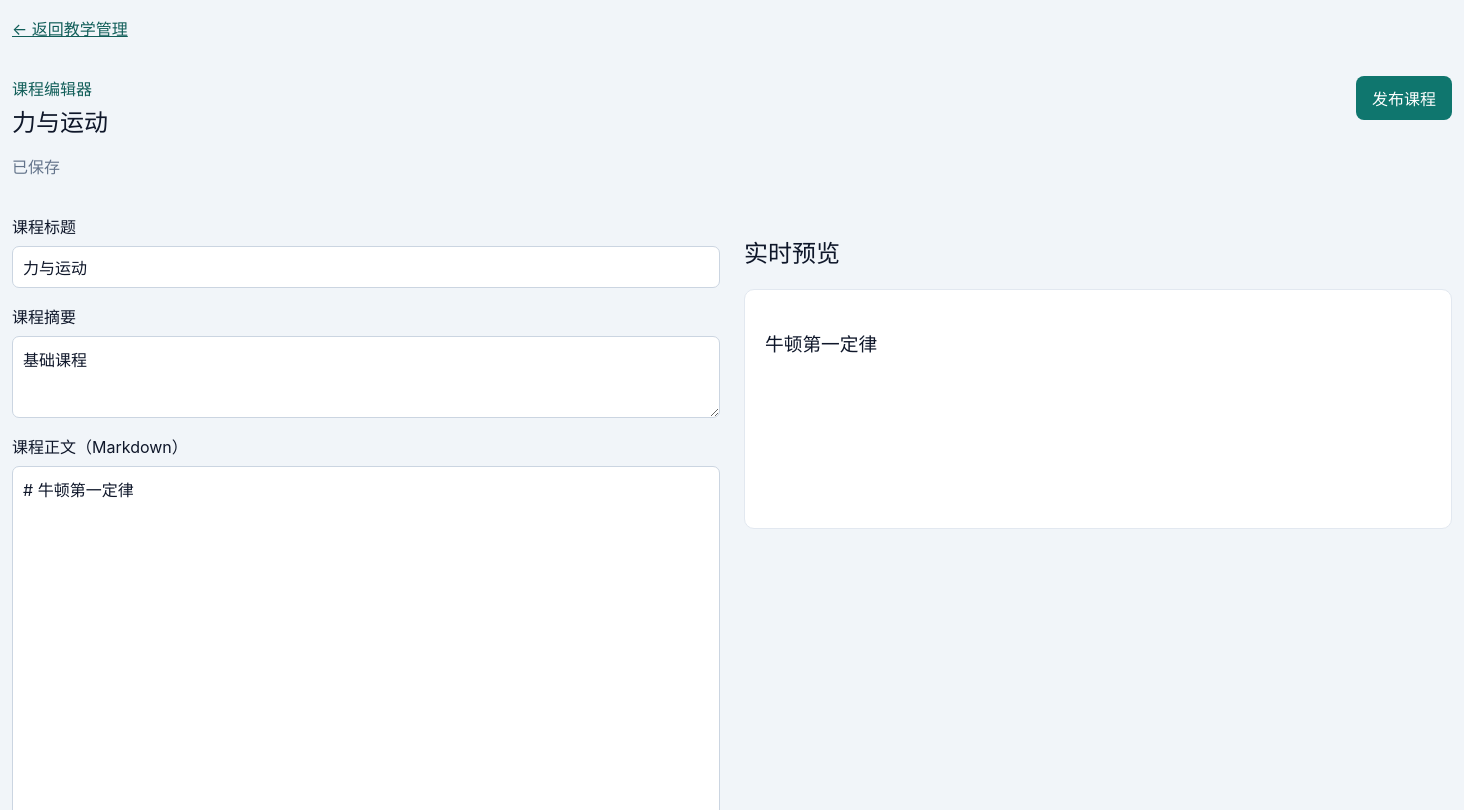
LessonEditorView › stops autosave after a conflict and offers a server reload
Replace the text in the field named "课程标题" with "本地标题" at point(366, 267), box [12,246,720,288]
Wait 800 ms
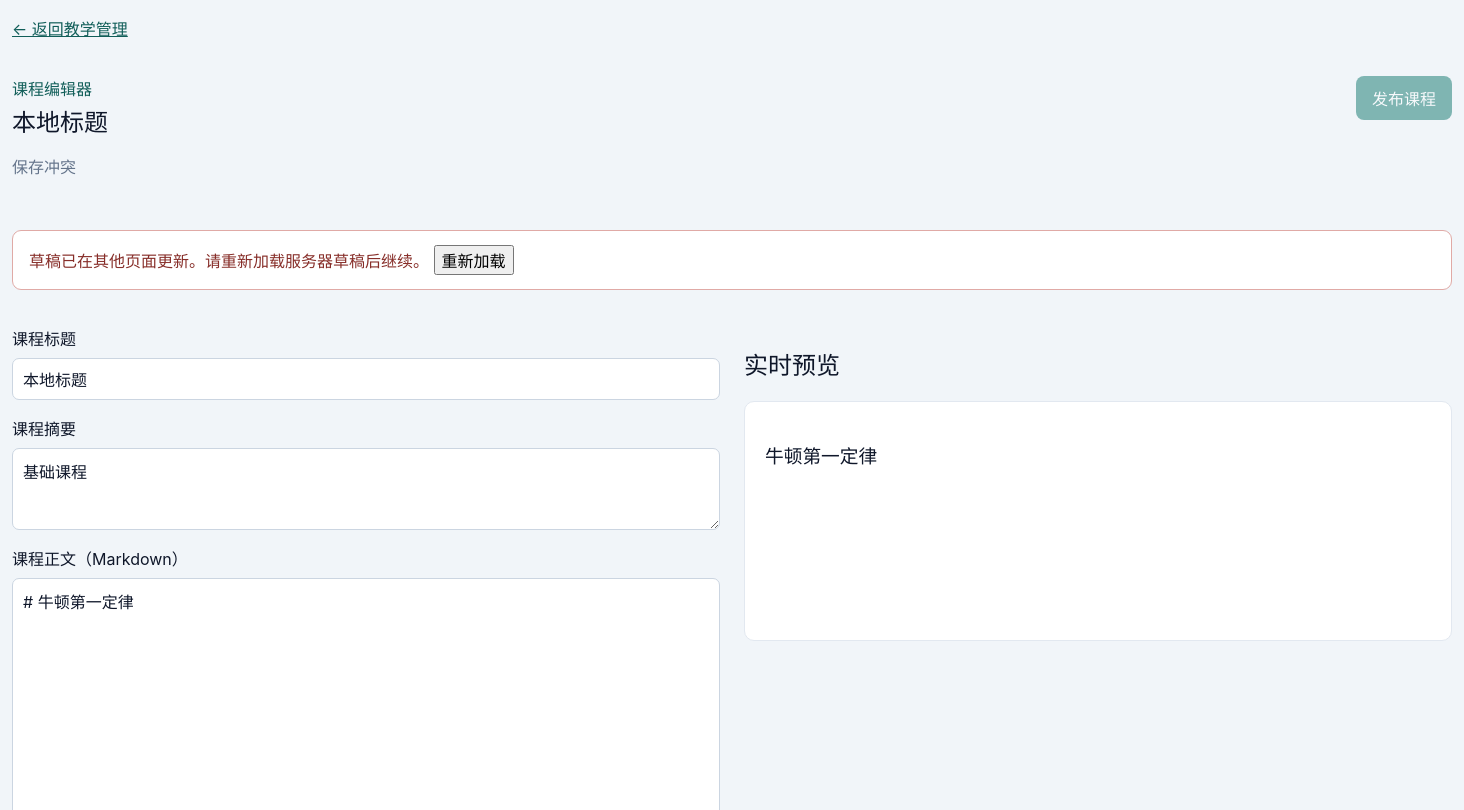
Now the message "草稿已在其他页面更新。请重新加载服务器草稿后继续。 重新加载" is shown, box [12,230,1452,290]
Replace the text in the text box named "课程摘要" with "继续编辑" at point(366, 489), box [12,448,720,530]
Wait 1600 ms
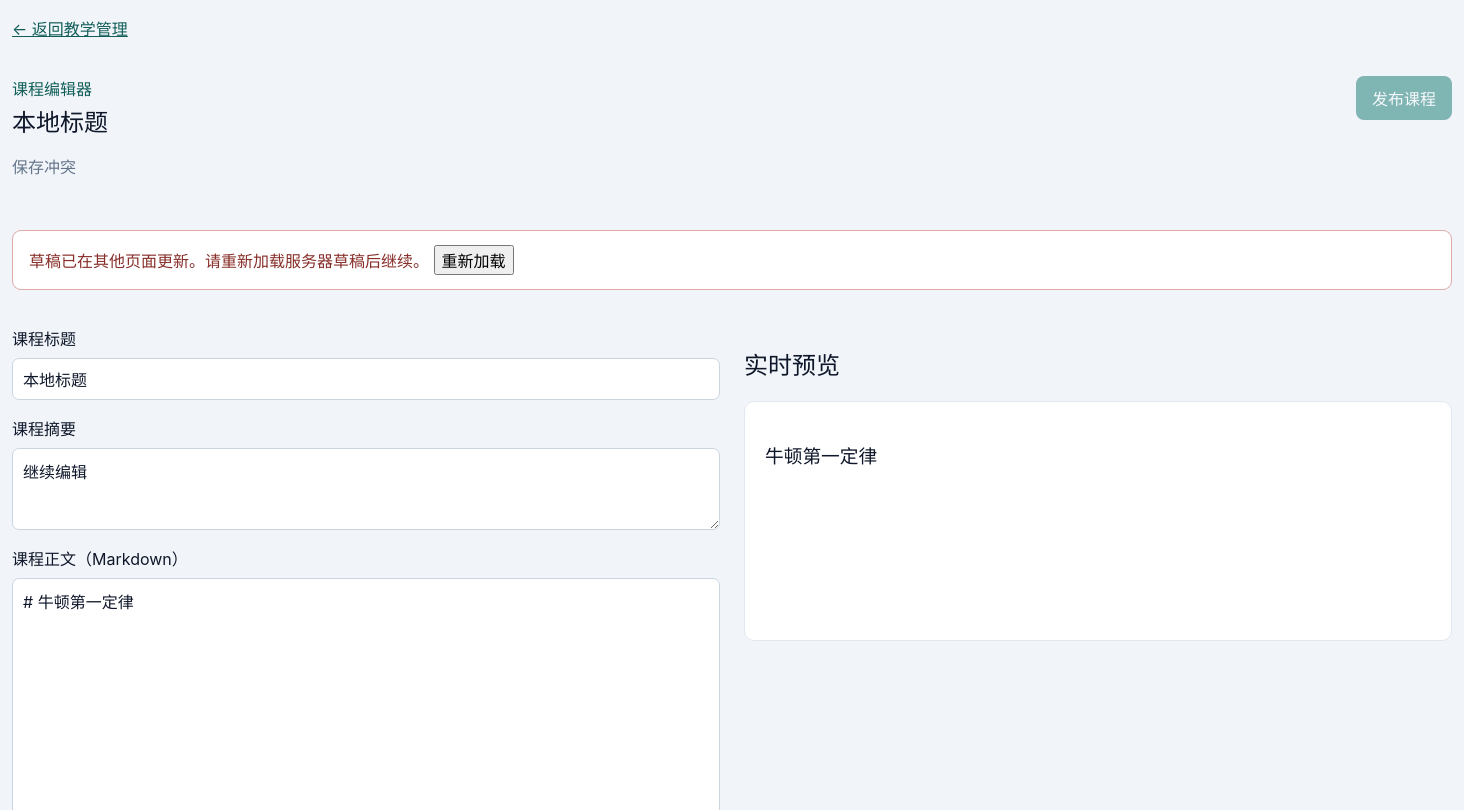
Click the button with aria-label "重新加载服务器草稿" at point(474, 260), box [434,245,514,275]
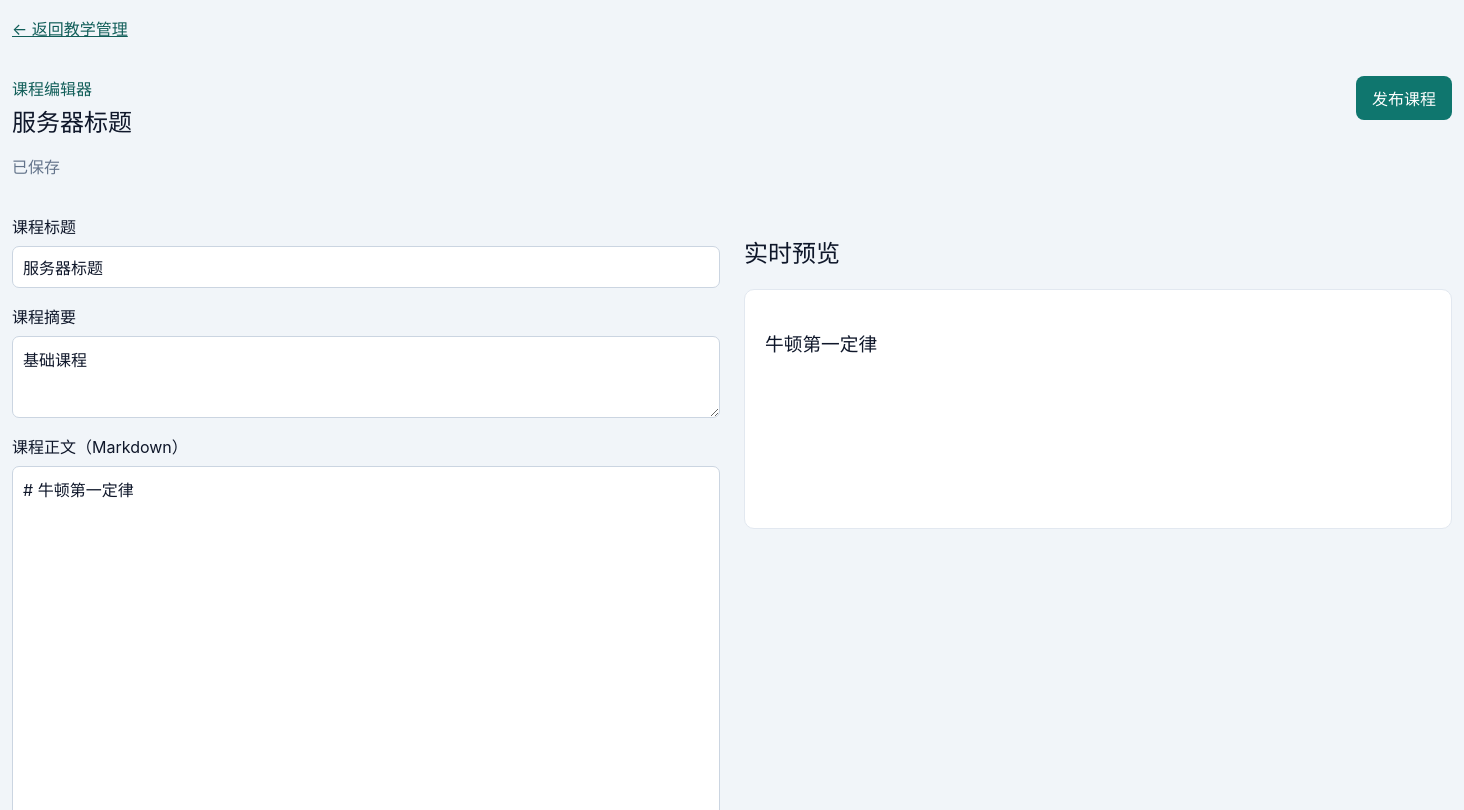
Now the field named "课程标题" holds "服务器标题", box [12,246,720,288]
Now the text "已保存" is shown, box [12,157,60,177]
